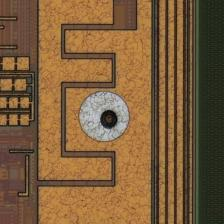BLOCK ETCH: (77, 89, 133, 145)
